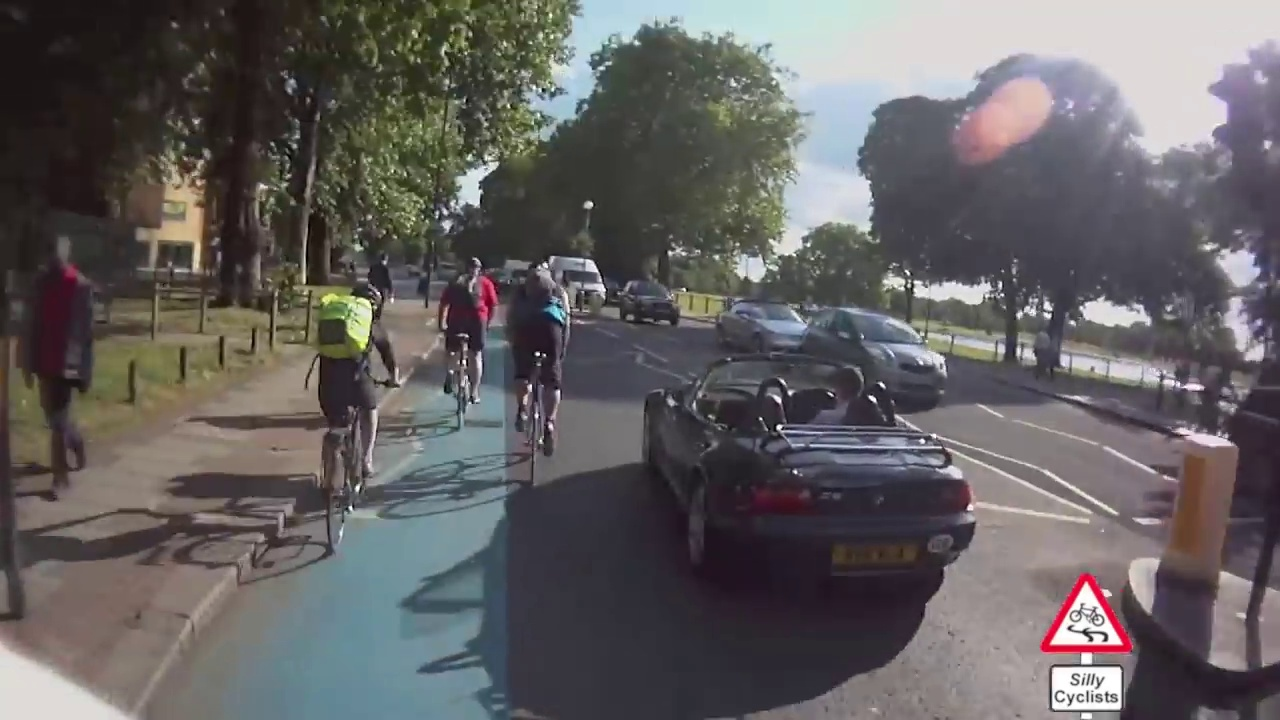cyclist_back: (308, 263, 403, 556), (506, 250, 569, 500), (438, 247, 495, 437)
